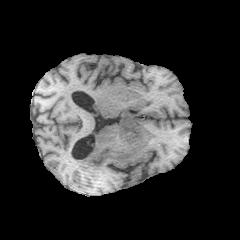glioma: (74, 109, 145, 172)
